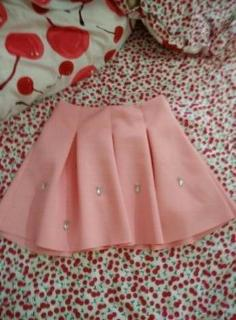skirt: (1, 93, 236, 258)
